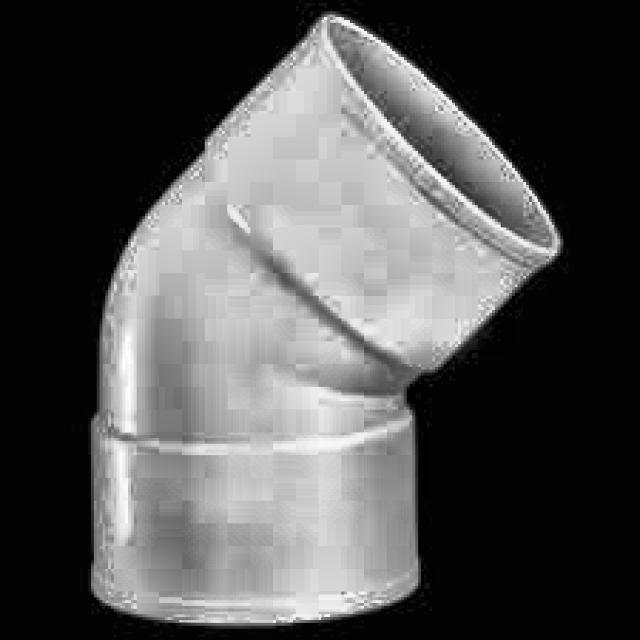ELBOW45: (88, 14, 563, 631)
